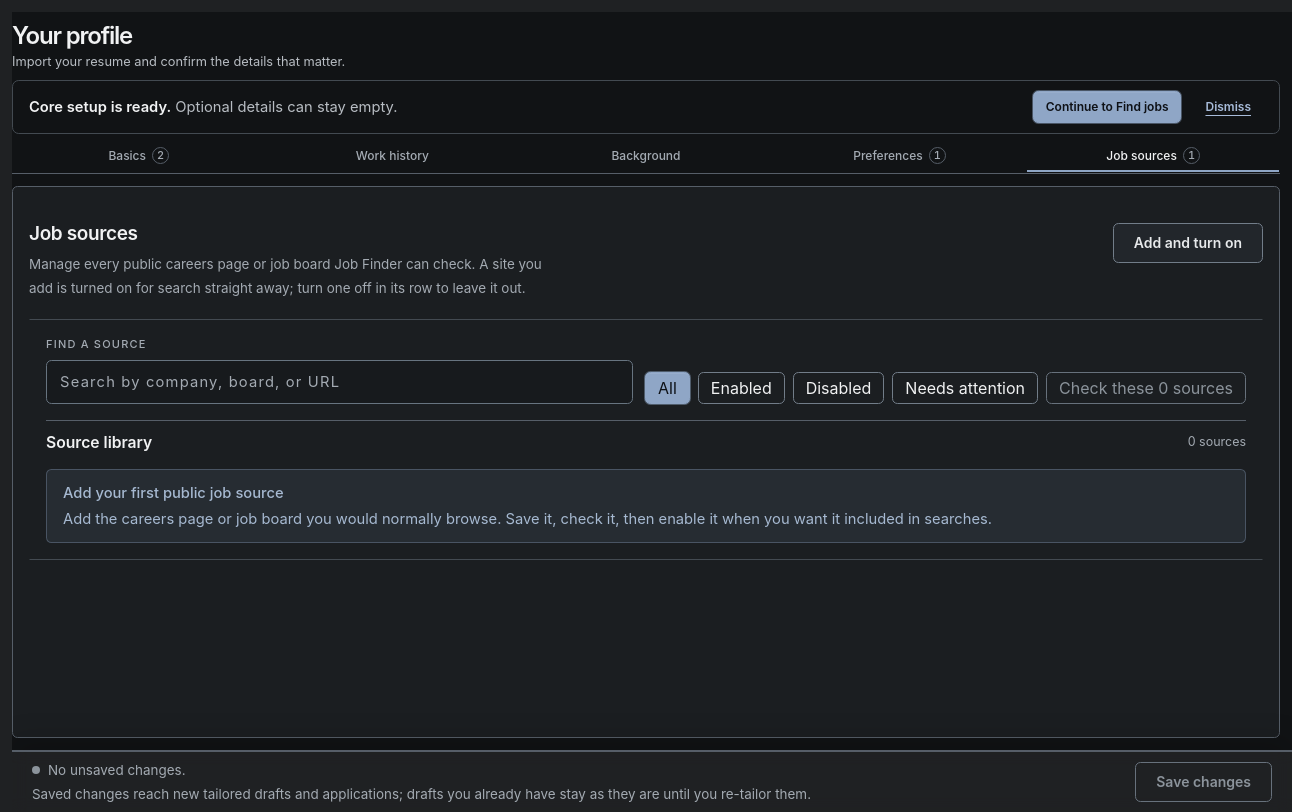
Test: ProfileScreen ready-state density and save-bar footprint › allows changing sections after arriving through a focused deep link
Click the tab "Preferences 1" at [900, 156], box [773,138,1026,172]
(page scrolled)
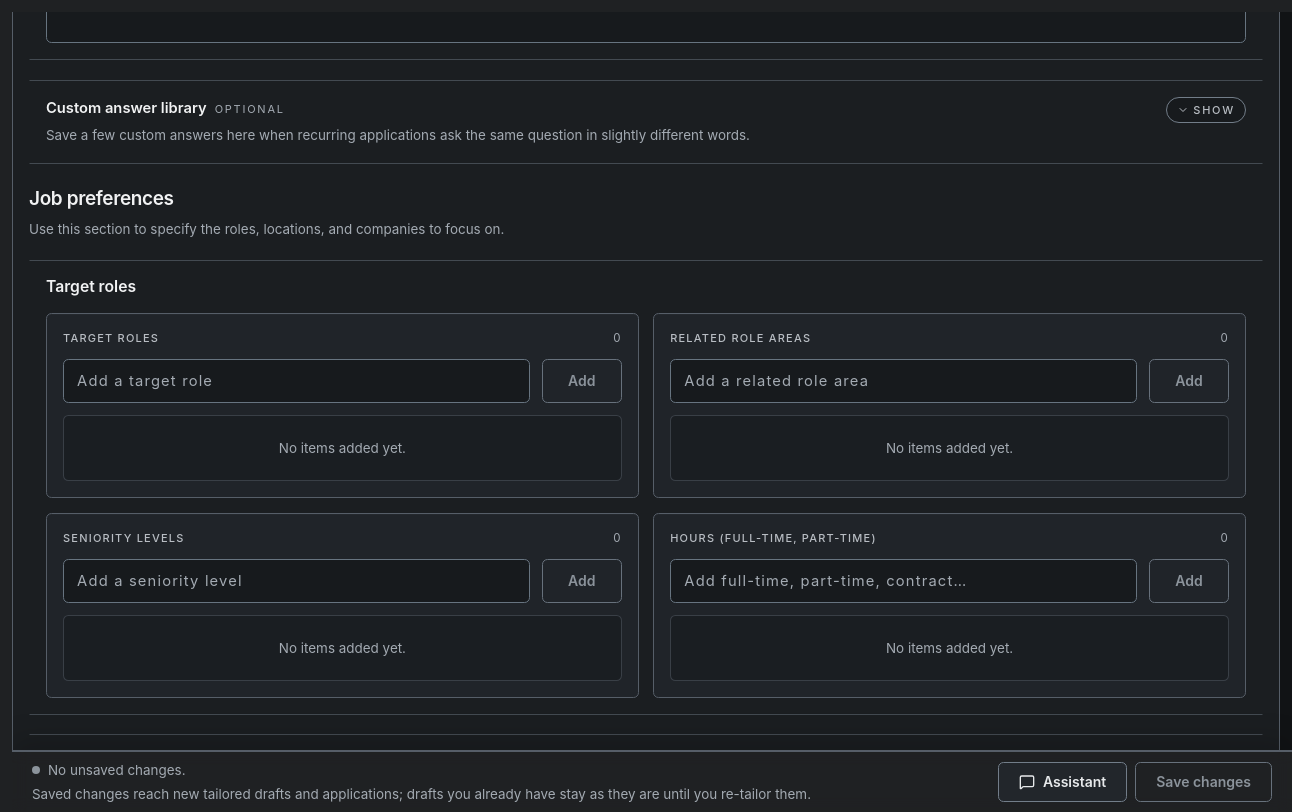
expect the field labelled "Target roles" is shown: met, box [63,359,530,403]
